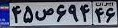character: (34, 3, 56, 25), (66, 2, 80, 24), (77, 2, 91, 24), (104, 5, 118, 27), (55, 2, 68, 25), (10, 3, 23, 25), (22, 3, 34, 26), (93, 6, 106, 25)
